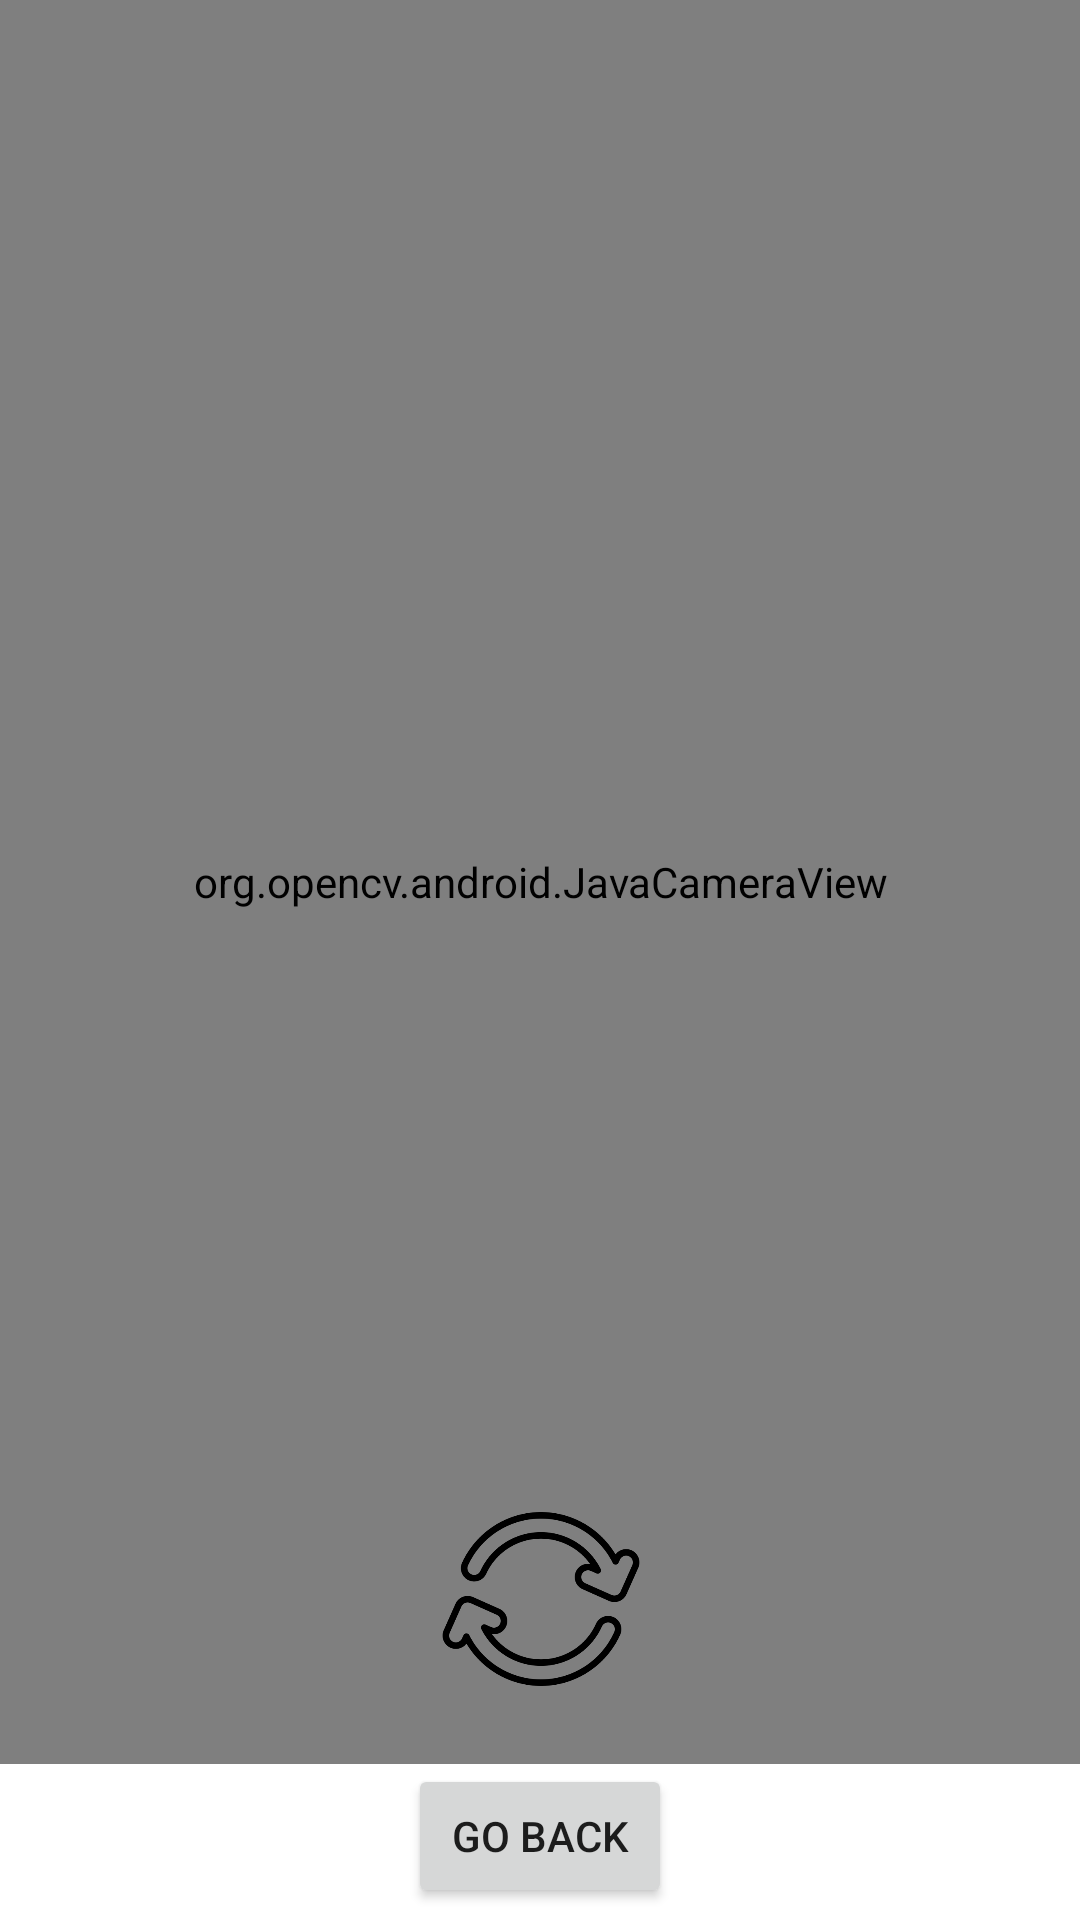

Named icons in this screenshot (1080x1920) and their centers, [x,y]:
reload: [541,1599]
